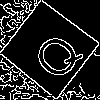Q: (24, 24, 86, 86)
